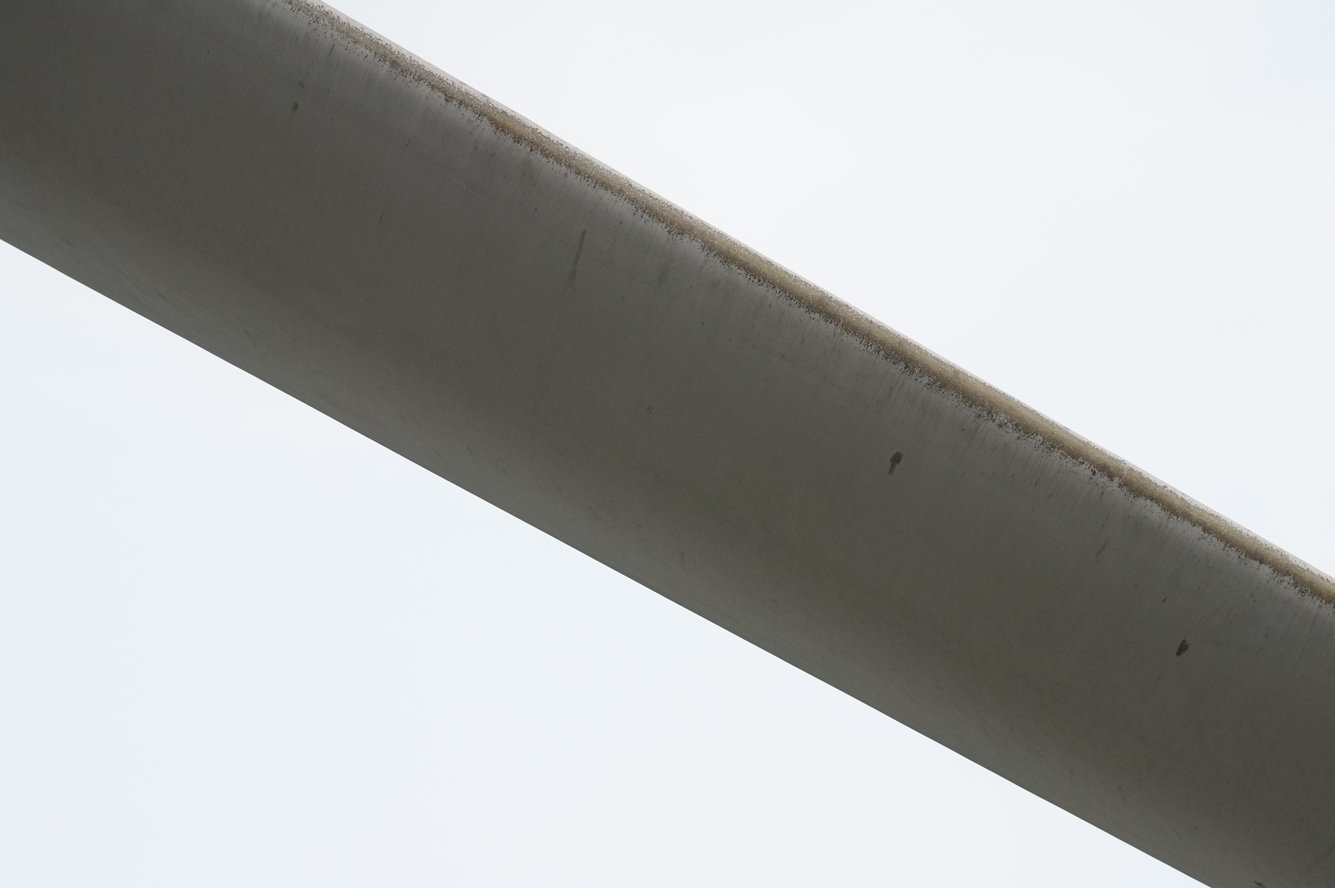Damage: (284, 0, 1335, 610)
